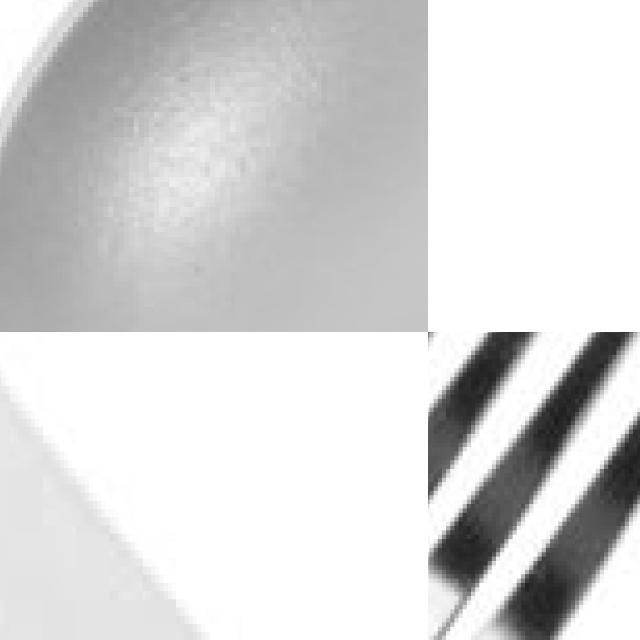forks: (428, 332, 640, 640)
spoons: (0, 0, 428, 332)
